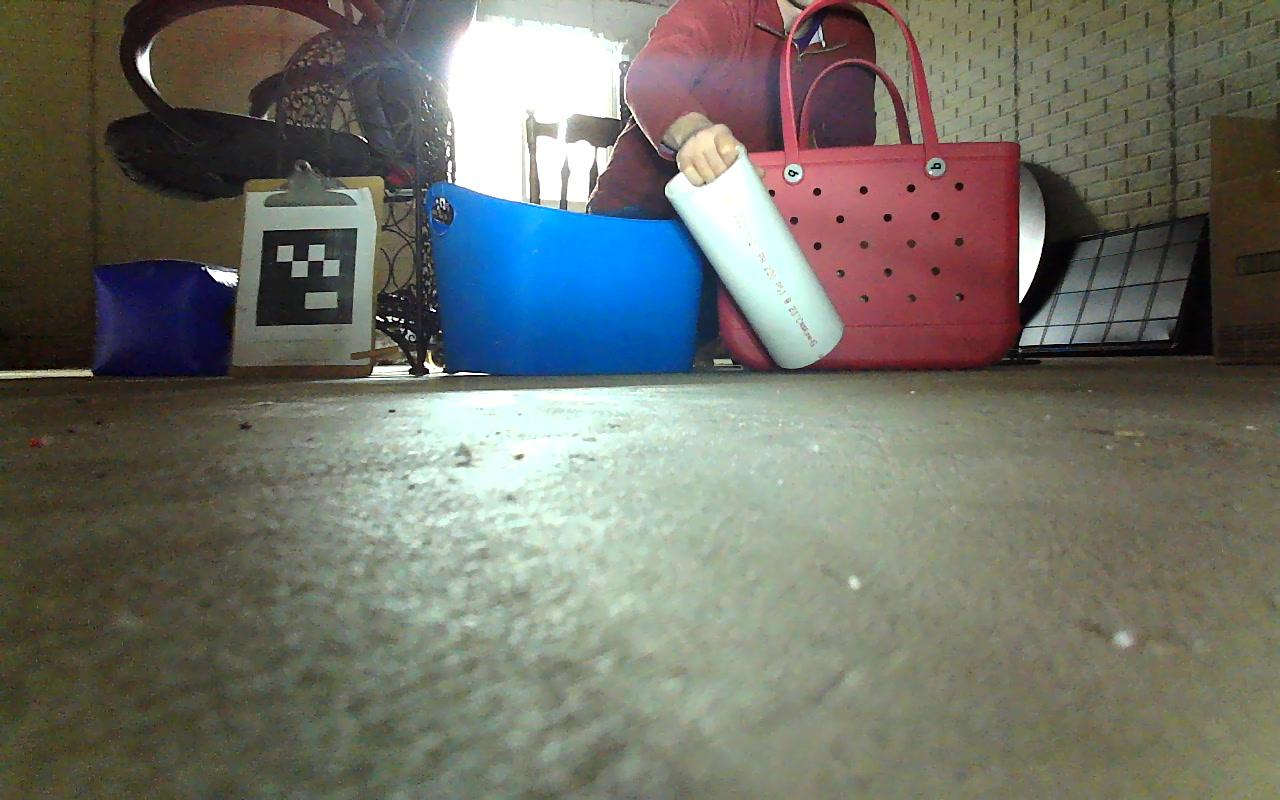coral: (665, 140, 853, 370)
